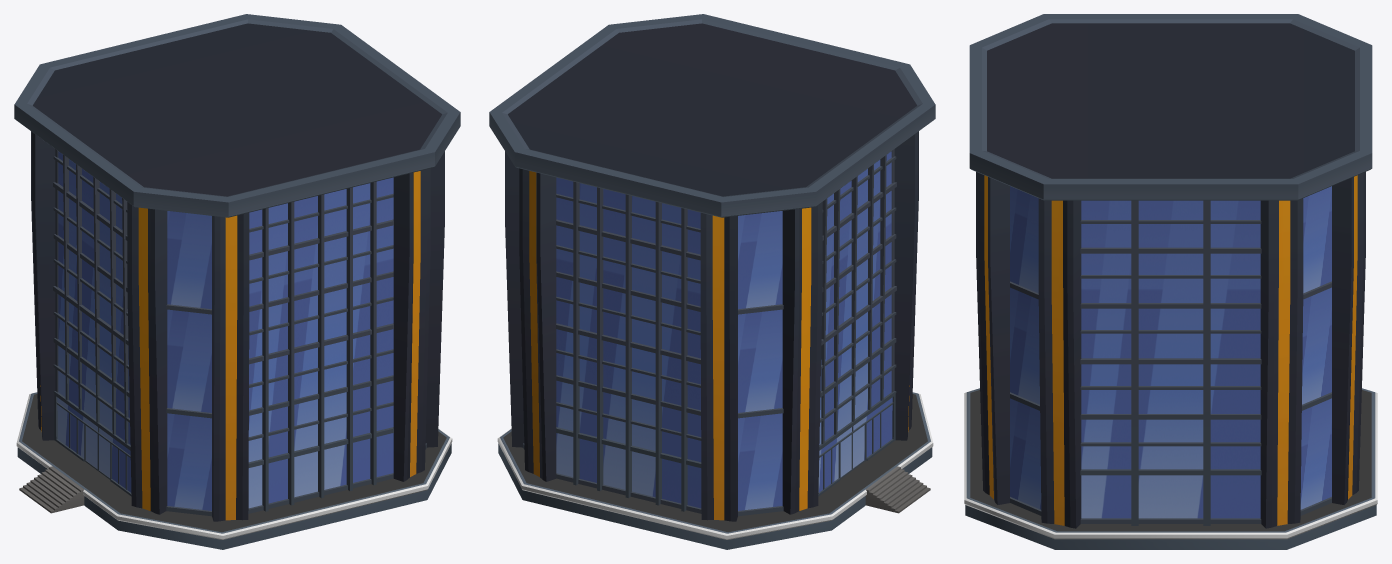
Rendered from Building_7_3_D.fbx.
3 renders of one model, left to right at view 1: azimuth 30°, elevation 25°; view 2: azimuth 150°, elevation 25°; view 3: azimuth 270°, elevation 25°, orthographic. The views are drawn at different scales.
Visible parts, largest first — view 1: Building_7_3_D; view 2: Building_7_3_D; view 3: Building_7_3_D.
Part boxes in pixels (<box>): Building_7_3_D: <box>14,14,460,549</box>; Building_7_3_D: <box>489,14,935,549</box>; Building_7_3_D: <box>964,14,1377,549</box>.
Size of the model in its own units: 2520 by 2267 by 2311.
